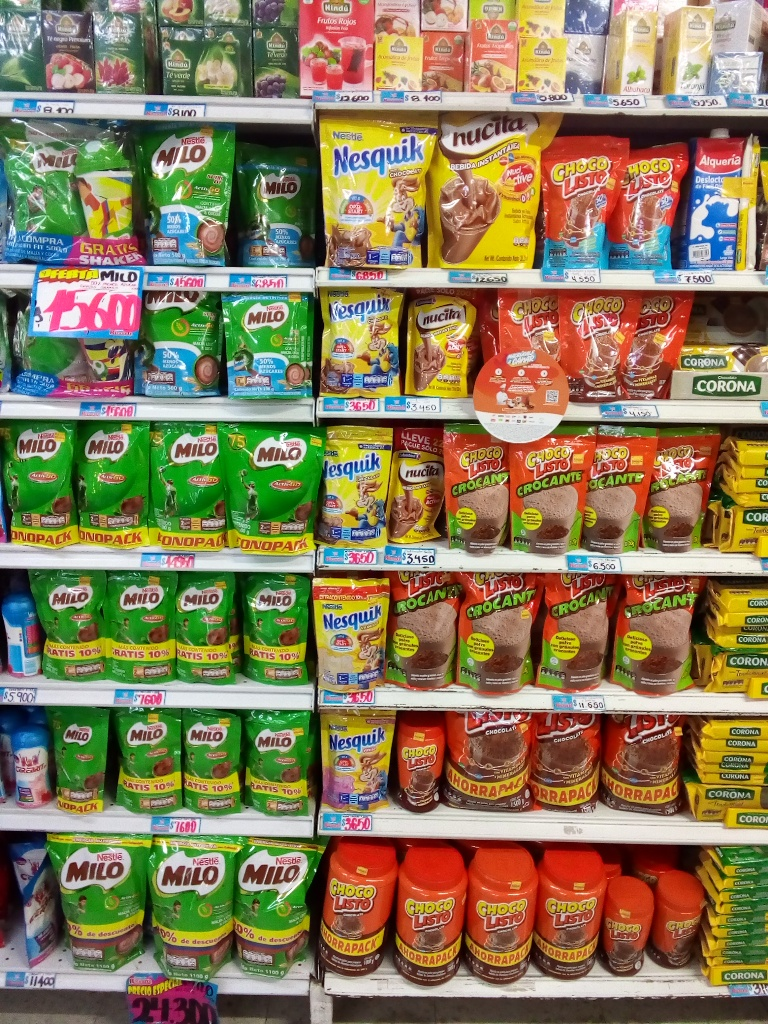COL0170102DYP25000: (445, 421, 510, 554)
COL0170102DYP50000: (383, 570, 462, 689)
COL0170103DYP1,500: (444, 708, 538, 813)
COL0170103DYP36000: (499, 289, 569, 405)
COL0170103TRR00100: (315, 835, 400, 978)
COL0170103TRR30000: (397, 711, 445, 815)
COL0170104DYP20000: (544, 134, 626, 271)
COL0170203DYP25000: (41, 705, 110, 812)
COL0170203DYP50000: (151, 420, 230, 552)
COL0170205DYP20000: (235, 141, 321, 270)
COL0170205DYP50000: (148, 121, 235, 270)
COL0170303DYP20000: (318, 283, 406, 402)
COL0170305DYP20000: (318, 707, 396, 813)
